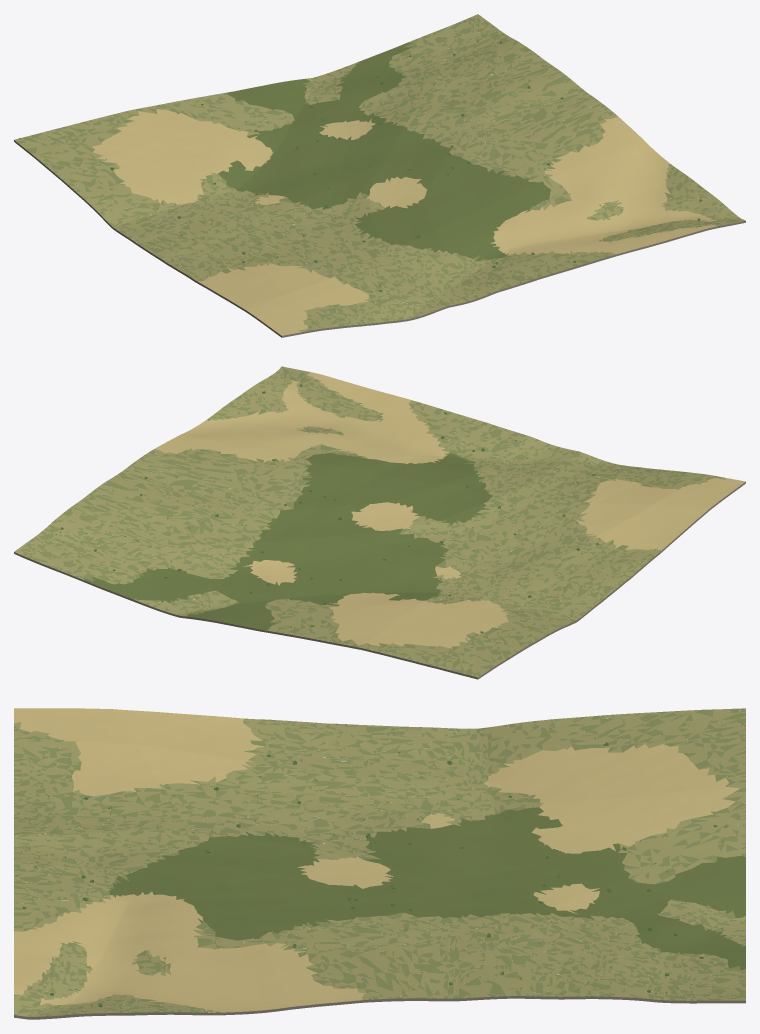
File: parca_+3_+0-yakin.glb
The picture shows the model from 3 angles, top to bottom: view 1: azimuth 30°, elevation 25°; view 2: azimuth 150°, elevation 25°; view 3: azimuth 270°, elevation 25°; orthographic projection. The views are drawn at different scales.
Parts seen in each view (by area): view 1: parca_+3_+0_arazi, parca_+3_+0_bitkiler; view 2: parca_+3_+0_arazi, parca_+3_+0_bitkiler; view 3: parca_+3_+0_arazi, parca_+3_+0_bitkiler.
Part boxes in pixels (x1=…): parca_+3_+0_arazi: x1=14, y1=14, x2=745, y2=337; parca_+3_+0_bitkiler: x1=19, y1=38, x2=706, y2=320; parca_+3_+0_arazi: x1=14, y1=366, x2=745, y2=679; parca_+3_+0_bitkiler: x1=55, y1=384, x2=618, y2=675; parca_+3_+0_arazi: x1=14, y1=708, x2=745, y2=1019; parca_+3_+0_bitkiler: x1=15, y1=708, x2=744, y2=1009.
Size of the model in its own units: 1001 by 69.81 by 1000.
